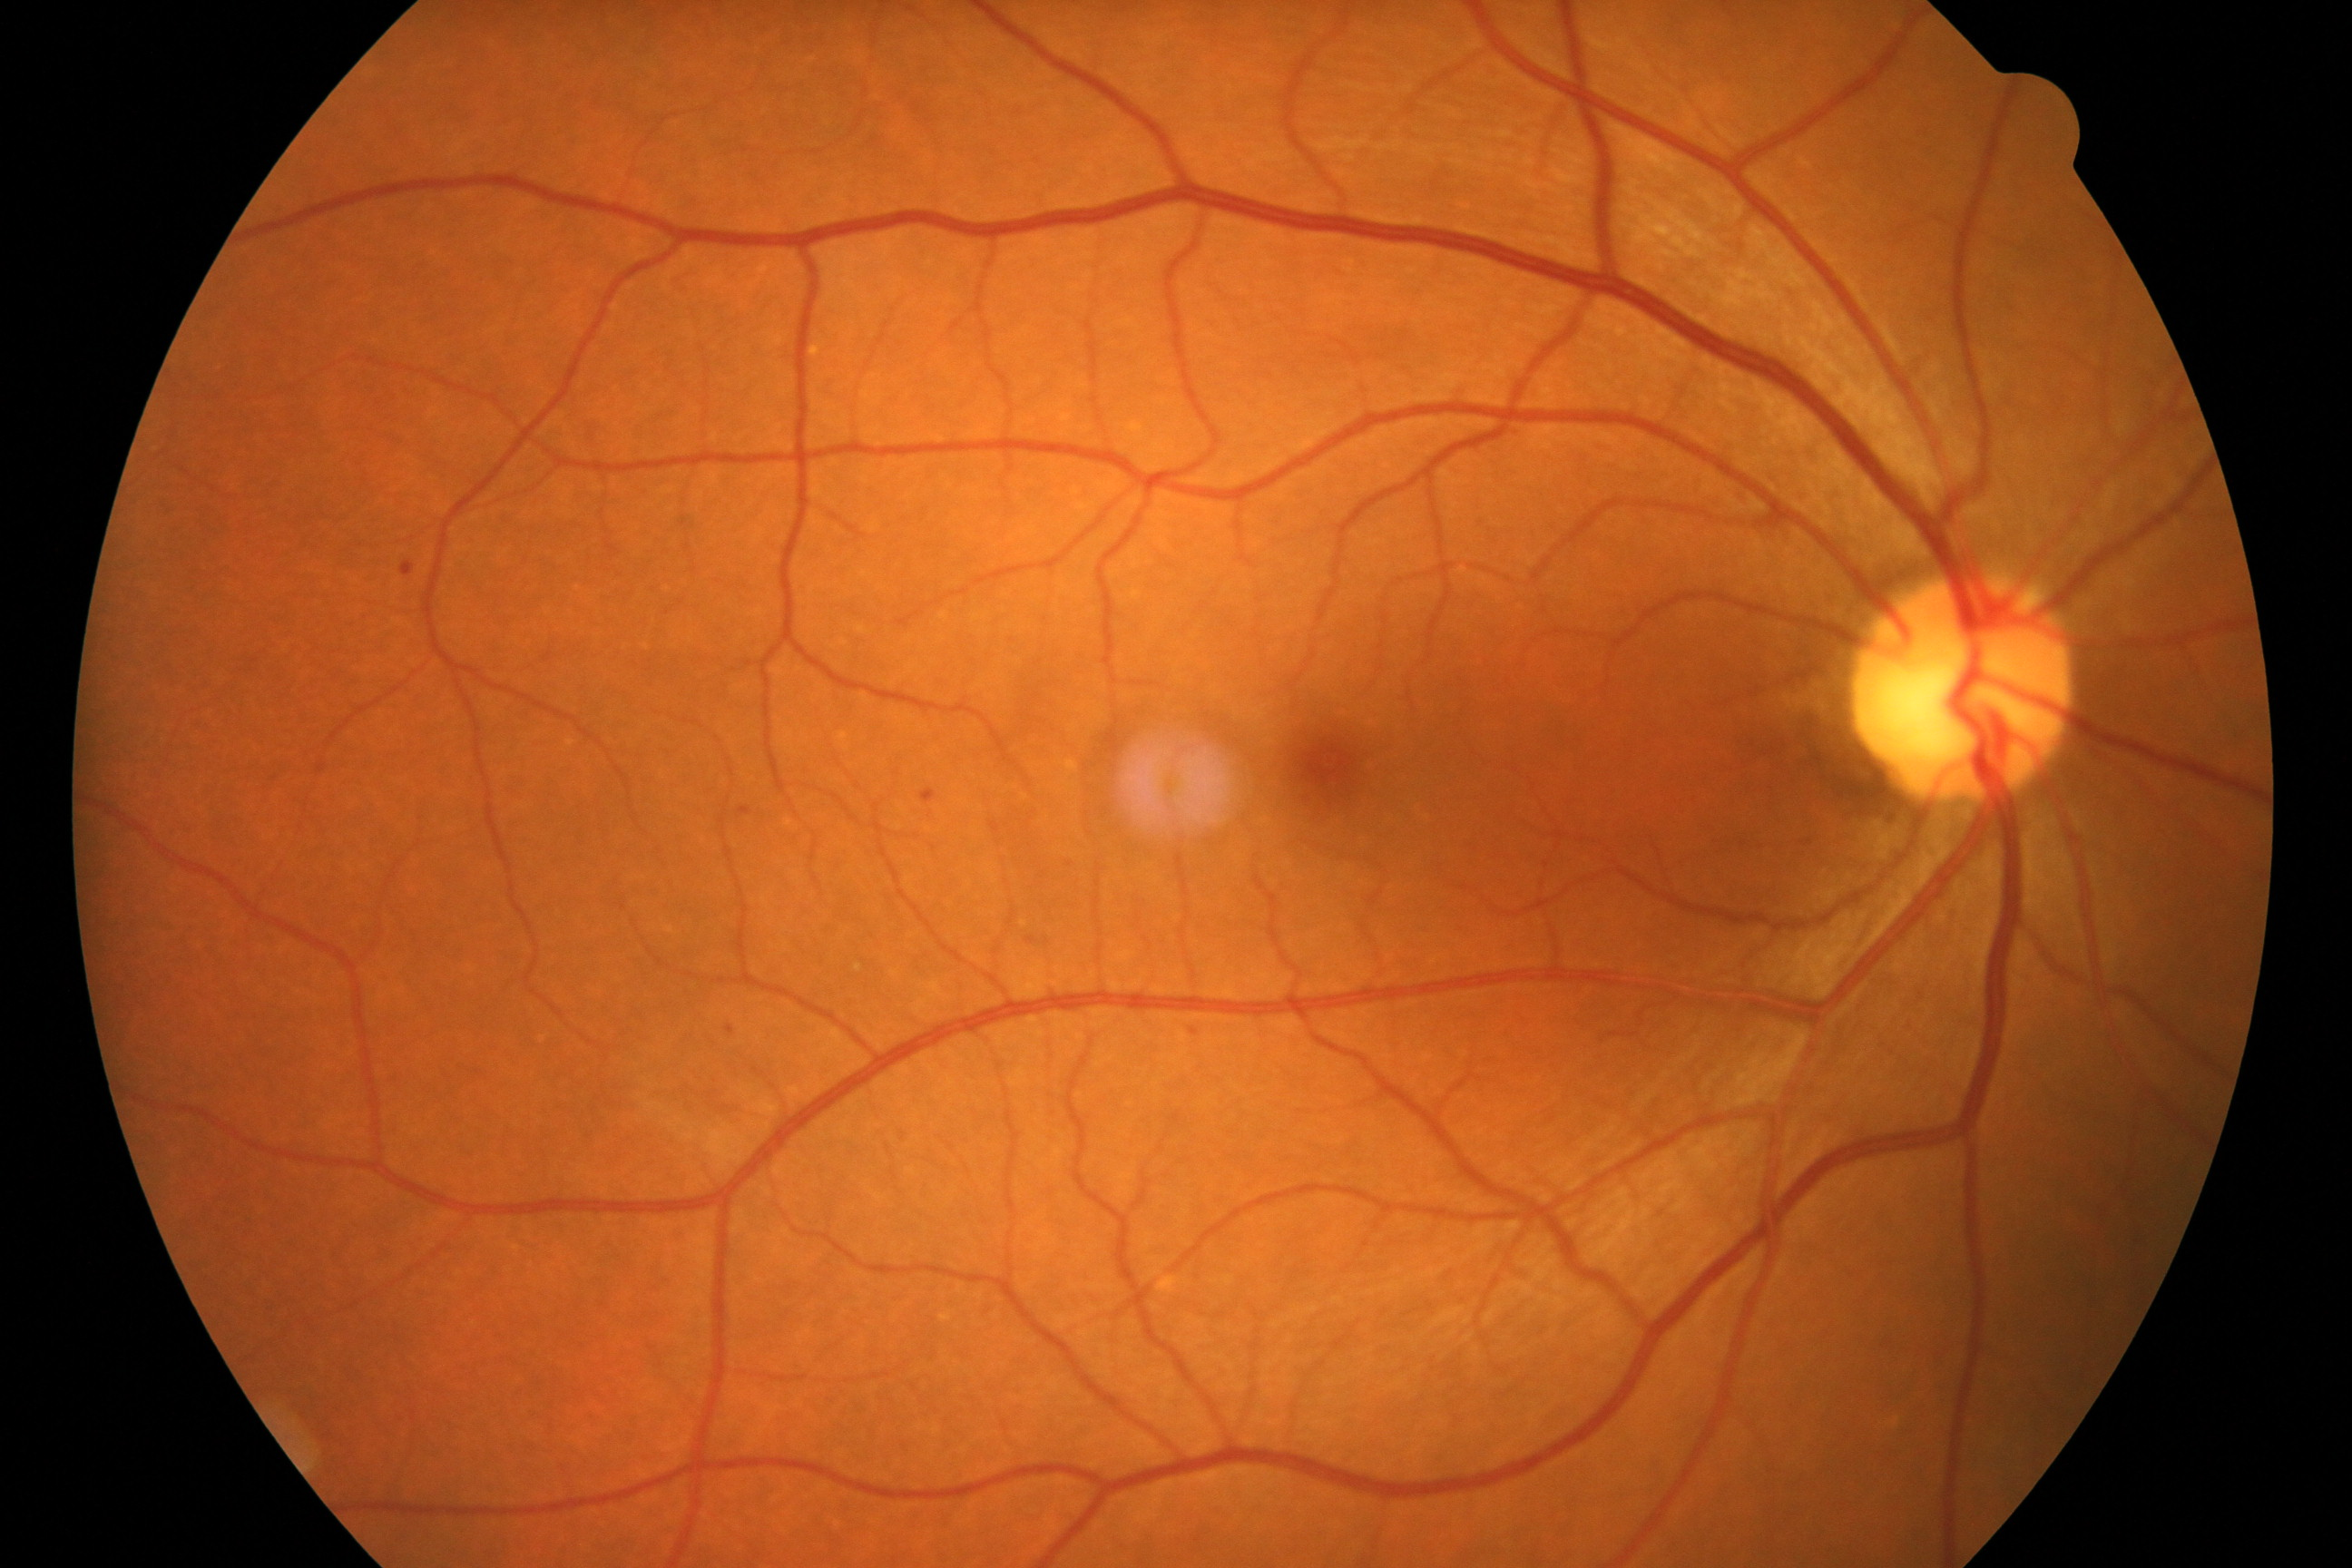Glaucoma section-1: (1888, 612, 2035, 749)
Glaucoma section-2: (1846, 569, 2081, 814)
